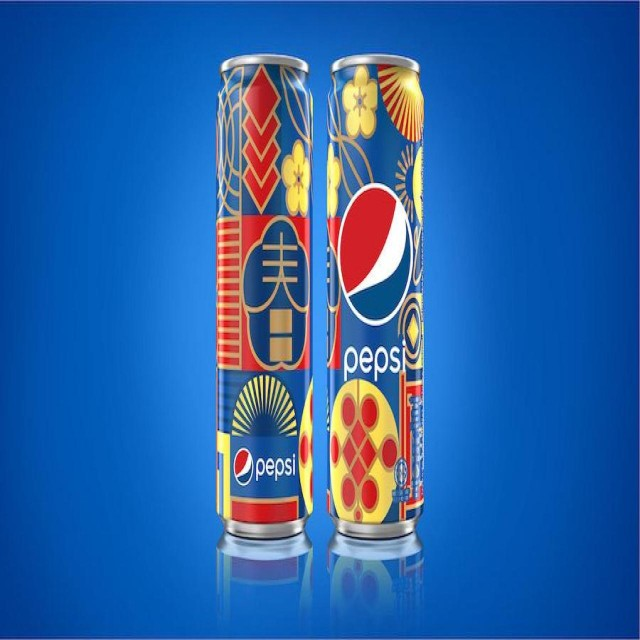pepsi: (341, 184, 412, 328), (234, 449, 253, 485)
